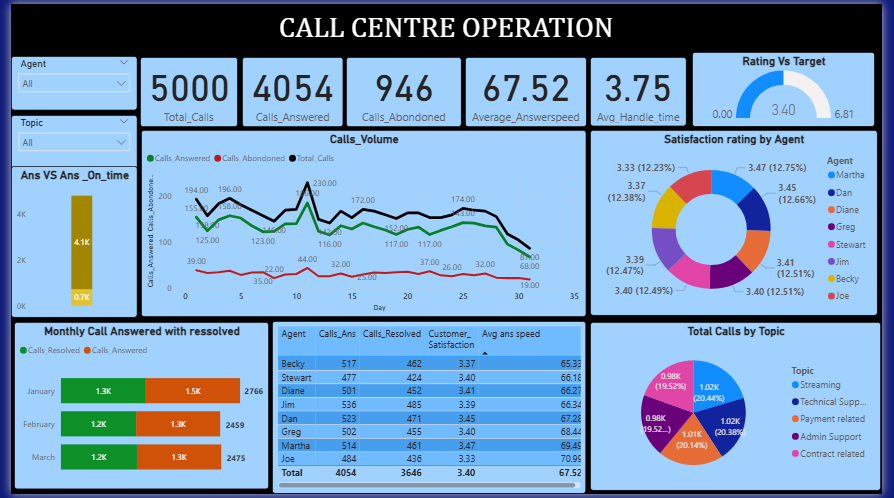

This screenshot's page, from the dashboard's own definition file:
{"tool":"powerbi","page":{"name":"Call Centre Trends","canvas":[1280,720],"ordinal":0},"visuals":[{"type":"card","fields":{"Values":["CallCentre_Data.Calls_Answered"]},"box":[339.4,77.5,149.3,102.8],"z":0},{"type":"textbox","box":[0,0,1280,70],"z":1000},{"type":"card","fields":{"Values":["CallCentre_Data.Calls_Abondoned","select"]},"box":[493,77.5,170.4,102.8],"z":2000},{"type":"card","fields":{"Values":["CallCentre_Data.Average_Answerspeed"]},"box":[667.6,77.5,178.9,102.8],"z":4000},{"type":"card","fields":{"Values":["CallCentre_data.Total_Calls"]},"box":[190.1,77.5,143.7,102.8],"z":5000},{"type":"barChart","title":"Monthly Call Answered with ressolved","fields":{"Category":["CallCentre_data.Date.Variation.Date Hierarchy.Month"],"Y":["CallCentre_data.Calls_Resolved","CallCentre_data.Calls_Answered"]},"box":[4.2,467.6,374.6,246.5],"z":6000},{"type":"donutChart","title":"Satisfaction rating by Agent","fields":{"Y":["Avg(CallCentre_data.Satisfaction rating)"],"Category":["CallCentre_data.Agent"]},"box":[852.1,185.9,422.5,273.2],"z":7000},{"type":"tableEx","fields":{"Values":["CallCentre_data.Agent","CallCentre_data.Calls_Answered","CallCentre_data.Calls_Resolved","CallCentre_data.Customer_Satisfaction","Avg(CallCentre_data.Speed of answer in seconds)"]},"box":[383.1,466.2,462,253.5],"z":8000},{"type":"lineChart","title":"Calls_Volume","fields":{"Y":["CallCentre_data.Calls_Answered","CallCentre_data.Calls_Abondoned","CallCentre_data.Total_Calls"],"Category":["CallCentre_data.Date.Variation.Date Hierarchy.Month","CallCentre_data.Date.Variation.Date Hierarchy.Day"]},"box":[191.5,185.9,654.9,274.6],"z":9000},{"type":"card","fields":{"Values":["CallCentre_data.Avg_Handle_time"]},"box":[851.8,78,141.7,102],"z":10000},{"type":"pieChart","title":"Total Calls by Topic","fields":{"Category":["CallCentre_data.Topic"],"Y":["CountNonNull(CallCentre_data.Call Id)"]},"box":[851.8,467.6,428.2,247.9],"z":13000},{"type":"slicer","fields":{"Values":["CallCentre_data.Topic"]},"box":[0,162.9,186,80],"z":14000},{"type":"slicer","fields":{"Values":["CallCentre_data.Agent"]},"box":[0,77.1,186,80],"z":15000},{"type":"columnChart","title":"Ans VS Ans _On_time","fields":{"Y":["CallCentre_data.AnsweredOnTime","CallCentre_data.Calls_Answered"]},"box":[0,238,185.9,222.5],"z":16000},{"type":"gauge","title":"Rating Vs Target","fields":{"Y":["CallCentre_data.actual_Customer_Satisfaction rating"]},"box":[1002,69.9,269.1,110],"z":16001}]}

Visuals, with their boxes in screenshot pixels (x1, y1, x2, y2), scaled from the page's 1280x720 canvas onto the 894x498 screenshot:
card - CallCentre_Data.Calls_Answered: <bbox>237, 54, 341, 125</bbox>
textbox: <bbox>0, 0, 893, 48</bbox>
card - CallCentre_Data.Calls_Abondoned x select: <bbox>344, 54, 463, 125</bbox>
card - CallCentre_Data.Average_Answerspeed: <bbox>466, 54, 591, 125</bbox>
card - CallCentre_data.Total_Calls: <bbox>133, 54, 233, 125</bbox>
"Monthly Call Answered with ressolved" barChart: <bbox>3, 323, 265, 494</bbox>
"Satisfaction rating by Agent" donutChart: <bbox>595, 129, 890, 318</bbox>
tableEx - CallCentre_data.Agent x CallCentre_data.Calls_Answered: <bbox>268, 322, 590, 497</bbox>
"Calls_Volume" lineChart: <bbox>134, 129, 591, 319</bbox>
card - CallCentre_data.Avg_Handle_time: <bbox>595, 54, 694, 124</bbox>
"Total Calls by Topic" pieChart: <bbox>595, 323, 893, 495</bbox>
slicer - CallCentre_data.Topic: <bbox>0, 113, 130, 168</bbox>
slicer - CallCentre_data.Agent: <bbox>0, 53, 130, 109</bbox>
"Ans VS Ans _On_time" columnChart: <bbox>0, 165, 130, 319</bbox>
"Rating Vs Target" gauge: <bbox>700, 48, 888, 124</bbox>
